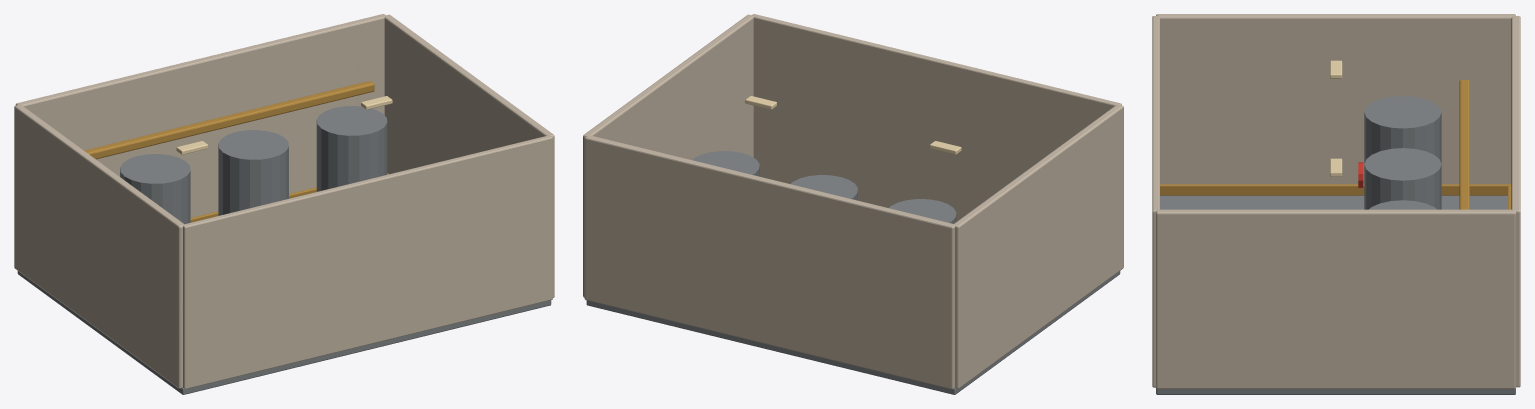
Rendered from apartment_boiler_room_a.glb.
3 renders of one model, left to right at view 1: azimuth 30°, elevation 25°; view 2: azimuth 150°, elevation 25°; view 3: azimuth 270°, elevation 25°, orthographic. The views are drawn at different scales.
Parts seen in each view (by area): view 1: CUTAWAY_FRONT, SET_Wall_Back, SET_Wall_Left, SET_Wall_Right, PROP_Boiler_2, PROP_Boiler_1, SET_Pipe_Header, PROP_Boiler_0, SET_Floor; view 2: SET_Wall_Back, CUTAWAY_FRONT, SET_Wall_Left, SET_Wall_Right, SET_Floor, PROP_Boiler_2, PROP_Boiler_0, PROP_Boiler_1; view 3: SET_Wall_Right, SET_Wall_Left, SET_Floor, PROP_Boiler_0, PROP_Boiler_1, SET_Trim_Left, SET_Wall_Back, CUTAWAY_FRONT, SET_Pipe_Header, PROP_Boiler_2.
Part boxes in pixels (x1,y1,x2,y2): CUTAWAY_FRONT: (183,135,552,389); SET_Wall_Back: (15,14,385,217); SET_Wall_Left: (14,105,183,388); SET_Wall_Right: (384,14,554,297); PROP_Boiler_2: (316,106,387,191); PROP_Boiler_1: (218,130,288,215); SET_Pipe_Header: (84,81,374,159); PROP_Boiler_0: (120,154,190,224); SET_Floor: (17,271,551,394); SET_Wall_Back: (584,135,954,389); CUTAWAY_FRONT: (752,14,1121,221); SET_Wall_Left: (954,105,1123,388); SET_Wall_Right: (583,14,753,297); SET_Floor: (586,271,1120,394); PROP_Boiler_2: (692,151,759,176); PROP_Boiler_0: (889,199,956,223); PROP_Boiler_1: (790,175,857,200); SET_Wall_Right: (1156,209,1515,389); SET_Wall_Left: (1156,14,1515,184); SET_Floor: (1156,195,1515,394); PROP_Boiler_0: (1364,96,1441,163); PROP_Boiler_1: (1364,148,1441,209); SET_Trim_Left: (1160,184,1510,195); SET_Wall_Back: (1511,16,1520,387); CUTAWAY_FRONT: (1152,16,1159,387); SET_Pipe_Header: (1459,80,1469,209); PROP_Boiler_2: (1369,200,1436,209).
Size of what is drawn, in the model's own units: 9.18 by 3.96 by 7.17.
